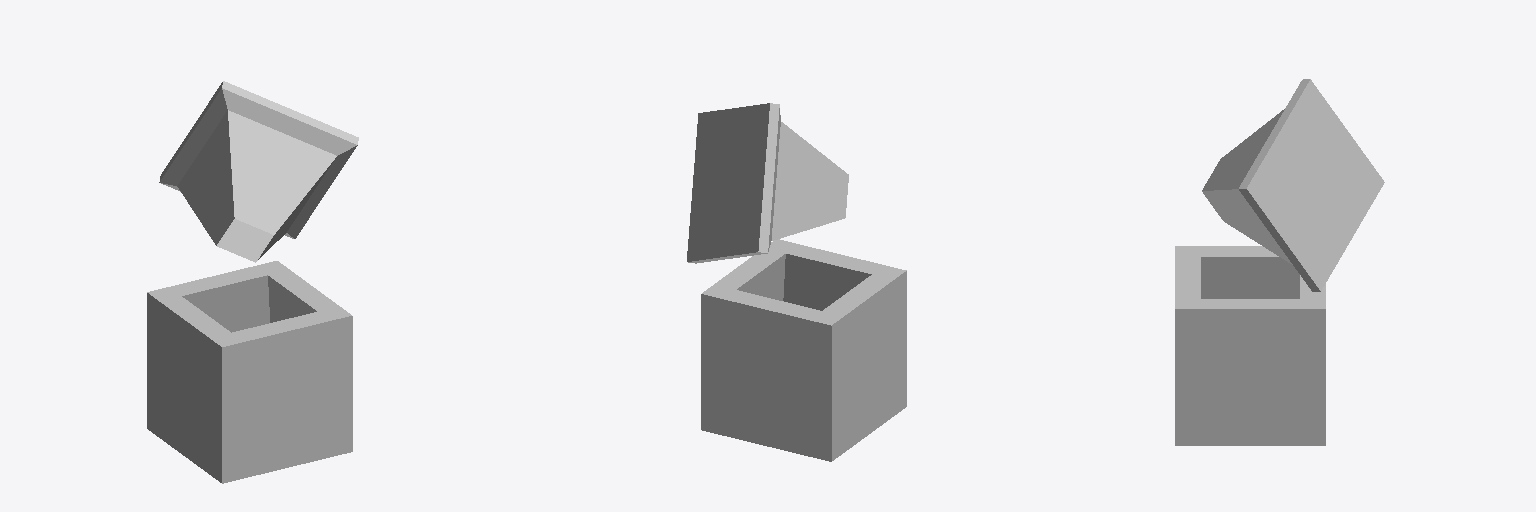
The model's file is AnimatedBox_000054.obj.
3 views of the same model, side by side, from view 1: azimuth 30°, elevation 25°; view 2: azimuth 150°, elevation 25°; view 3: azimuth 270°, elevation 25° (orthographic).
Visible parts, largest first — view 1: Cube, Cube.001; view 2: Cube, Cube.001; view 3: Cube, Cube.001.
Part boxes in pixels (left/top/right/bottom): Cube: left=147, top=261, right=352, bottom=483; Cube.001: left=159, top=81, right=358, bottom=262; Cube: left=701, top=239, right=906, bottom=461; Cube.001: left=687, top=103, right=848, bottom=263; Cube: left=1175, top=246, right=1325, bottom=445; Cube.001: left=1202, top=79, right=1384, bottom=291.
Size of the model in its own units: 2.65 by 4.94 by 2.79.